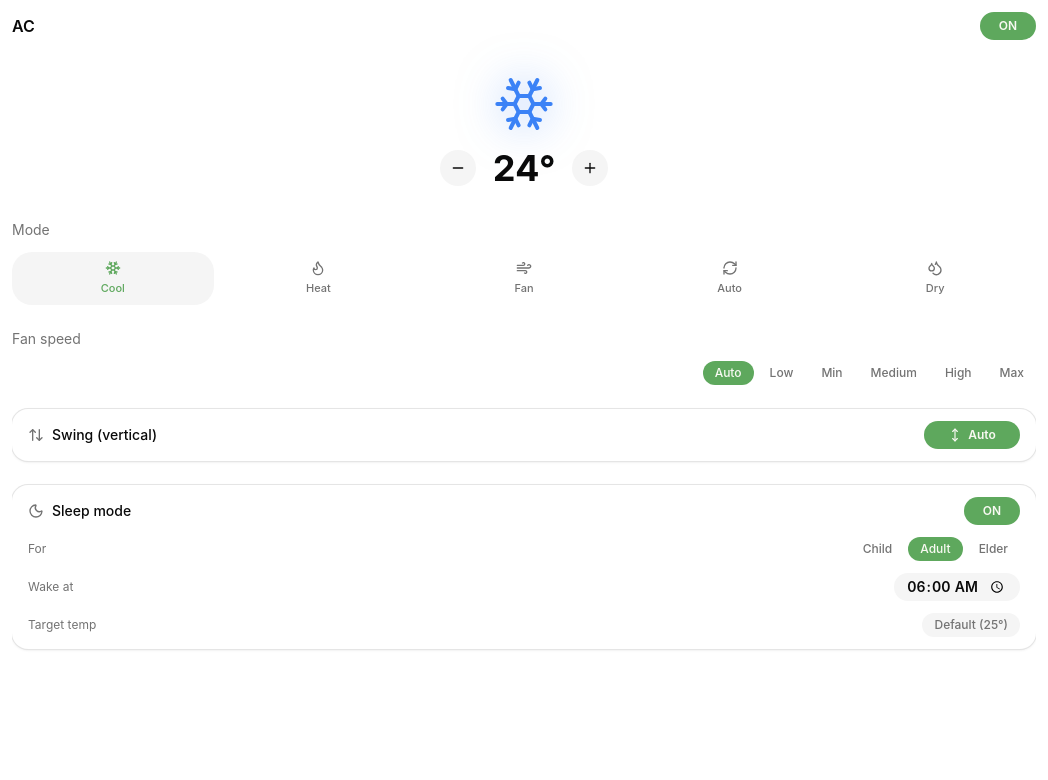
Test: AcControlPanel: sleep mode debounce and sync › changing mode/fan/swing/temp while sleeping cancels sleep locally, matching the device's own auto-cancel
The width and height of the screenshot is (1048, 780).
Click the button "Heat".
click(318, 278)  # box x1=218 y1=252 x2=419 y2=304
Wait 700 ms
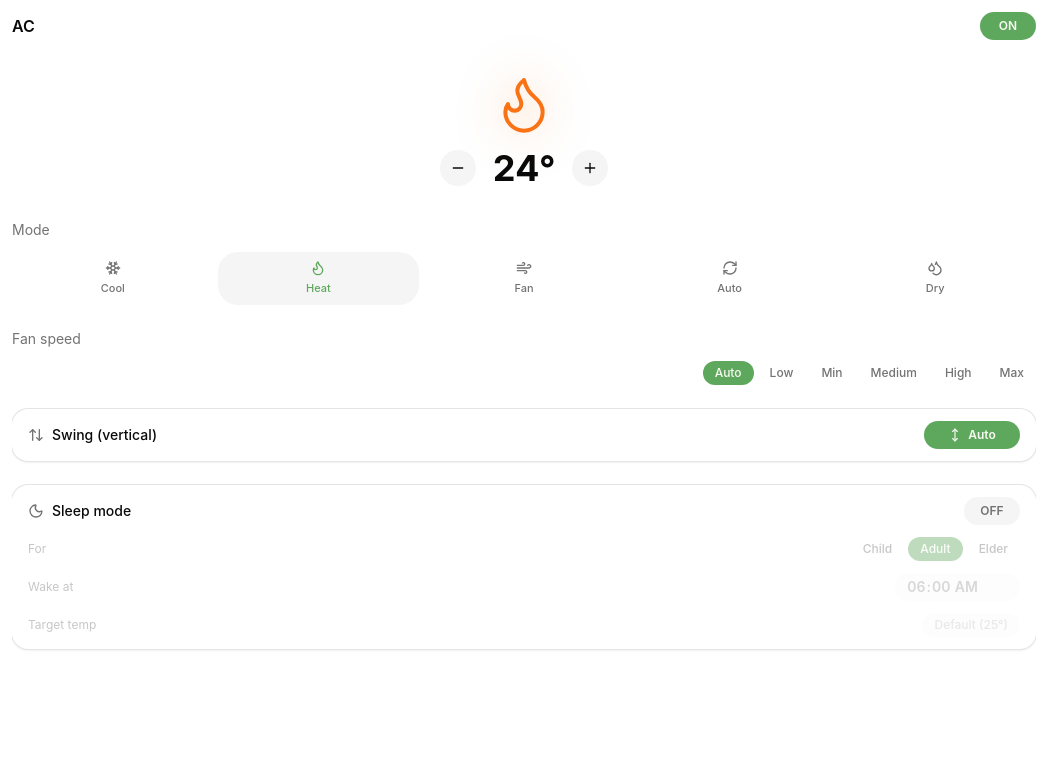
Result: the button with aria-label "Sleep mode" reads "Off" at x1=964 y1=496 x2=1020 y2=524
